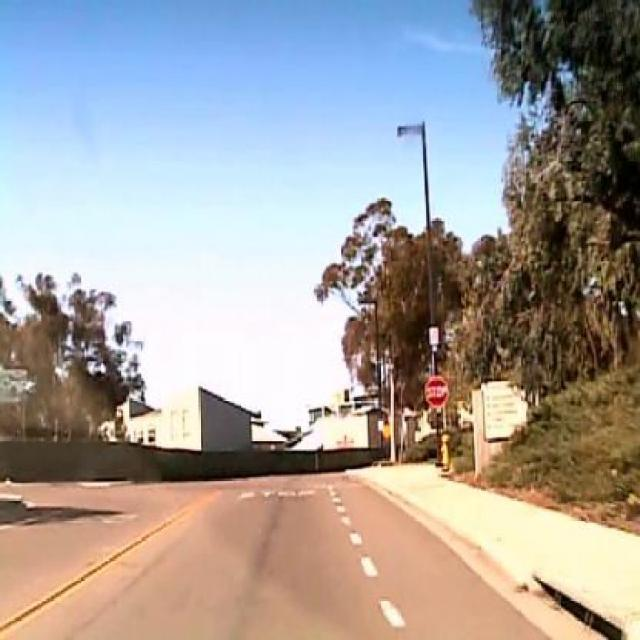Stop: (423, 373, 449, 410)
